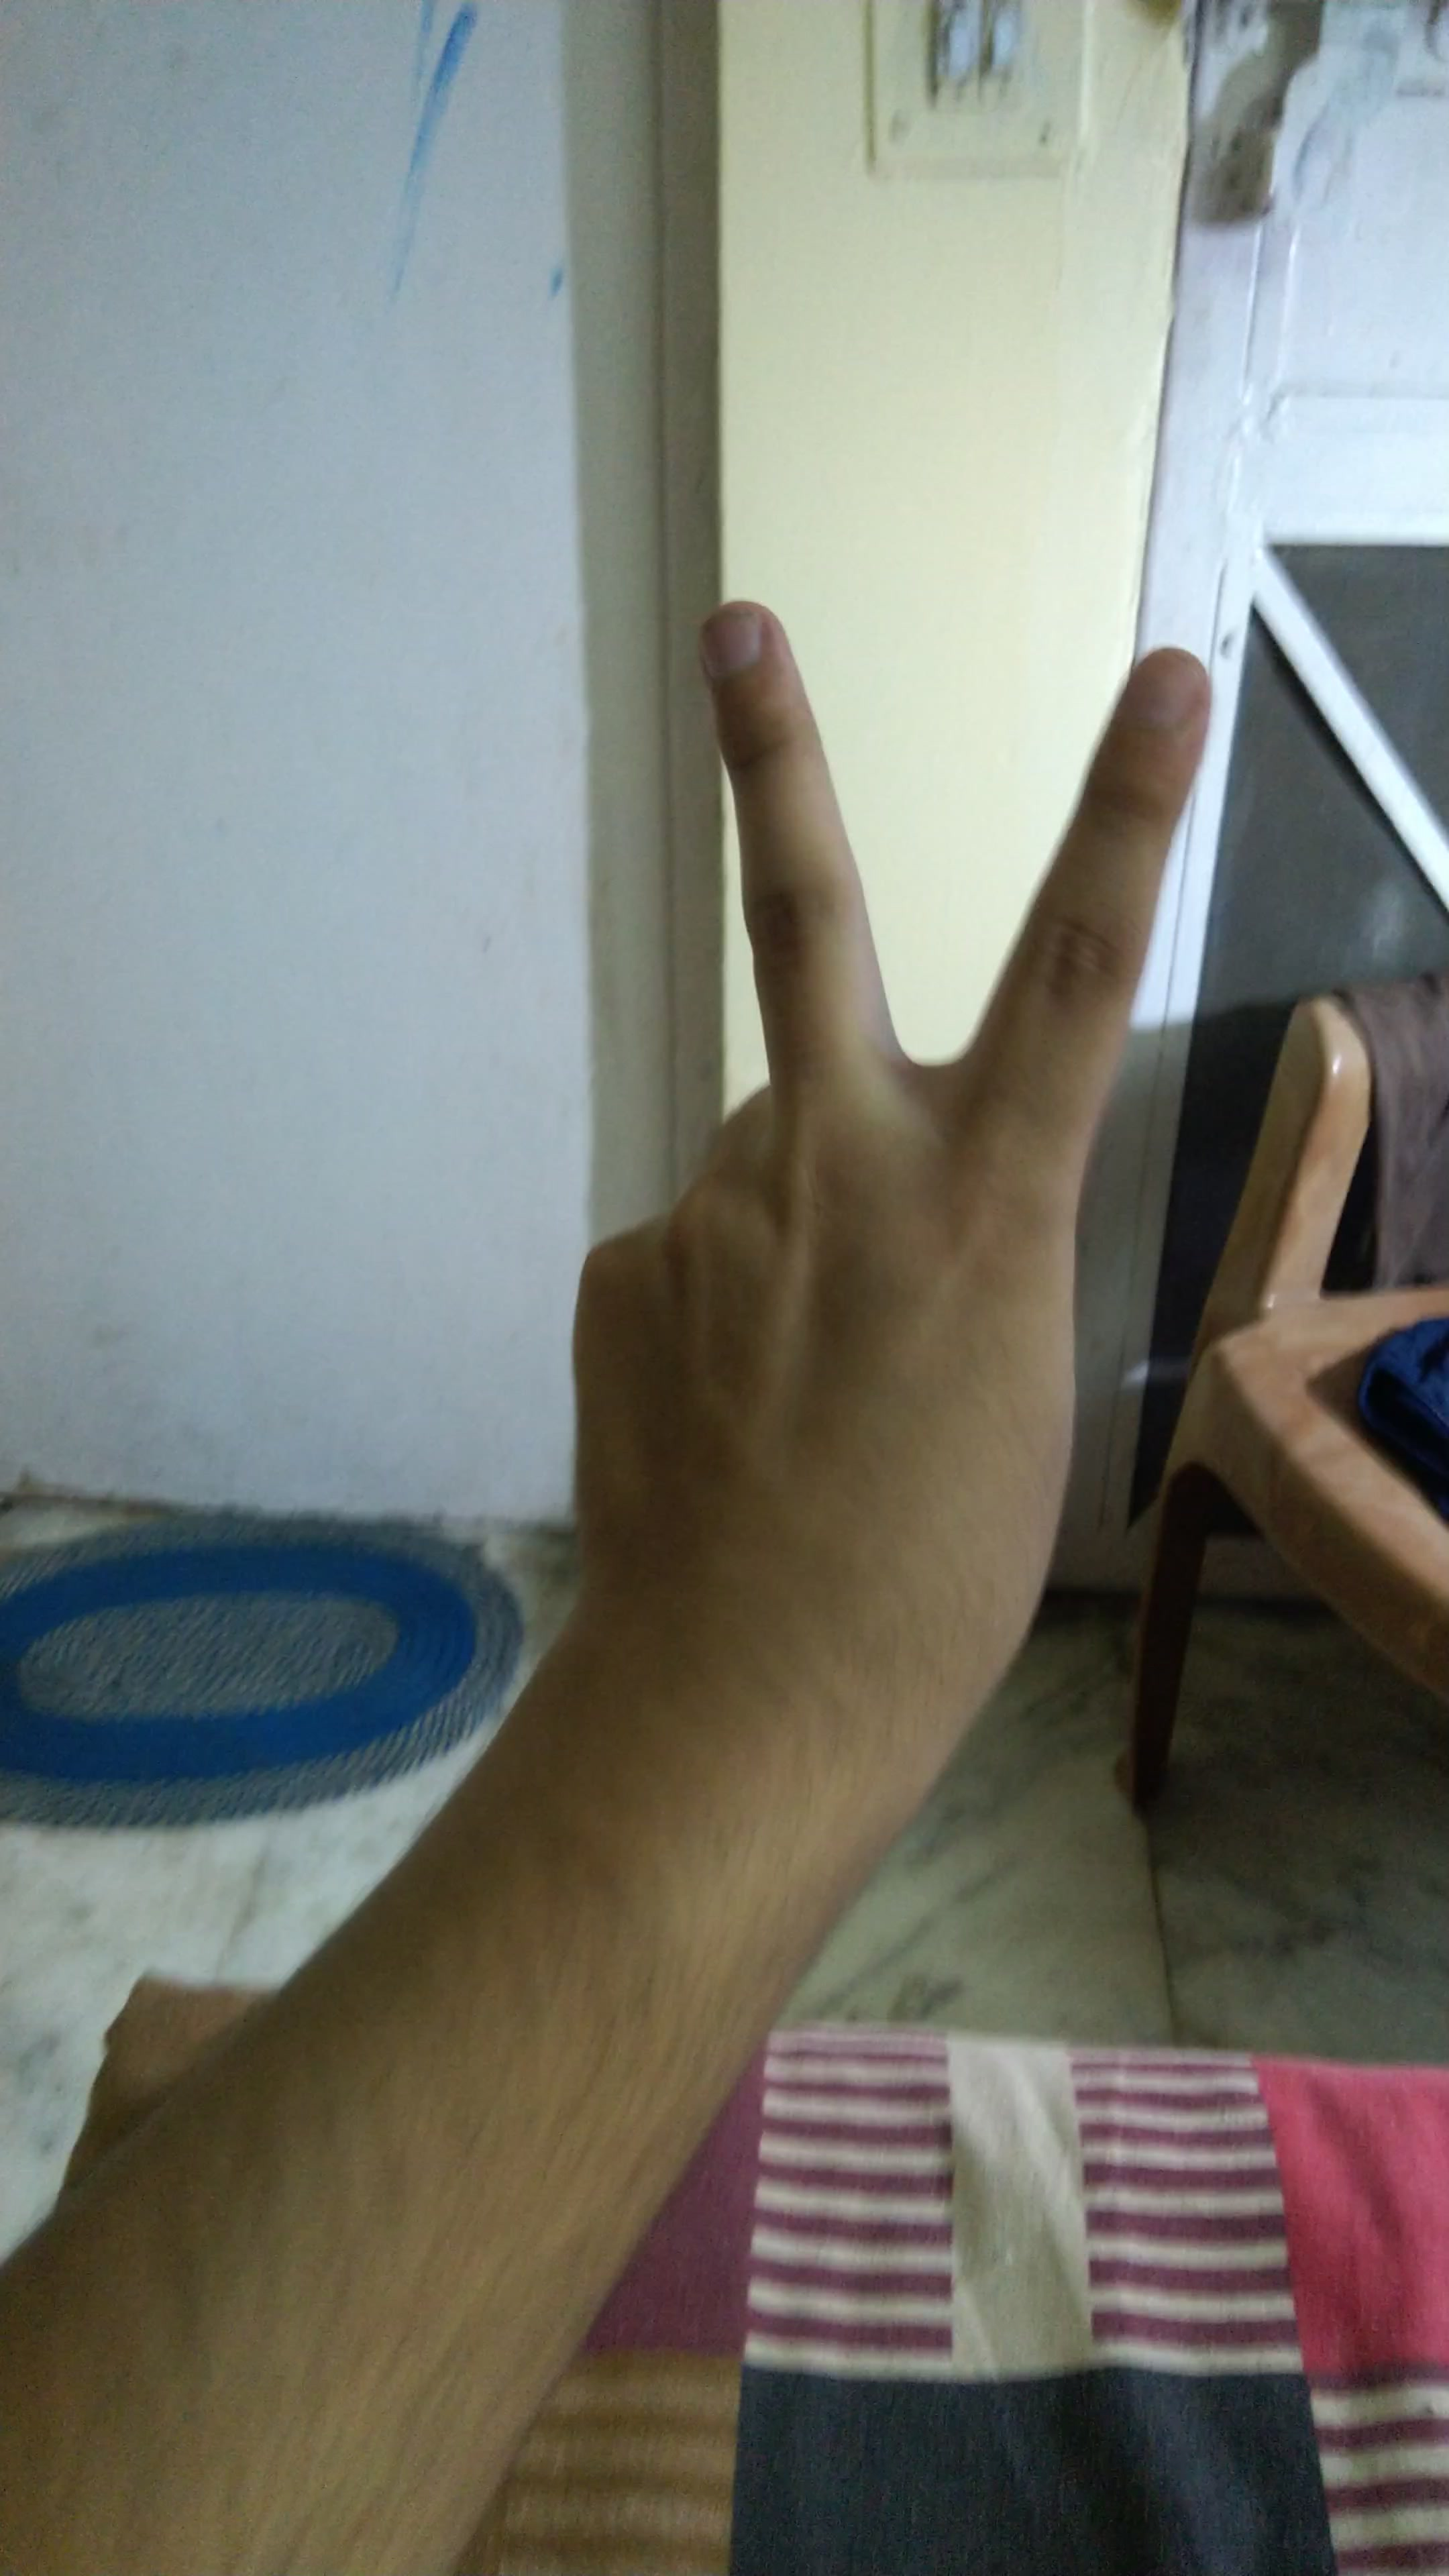hand: (409, 570, 1279, 1789)
